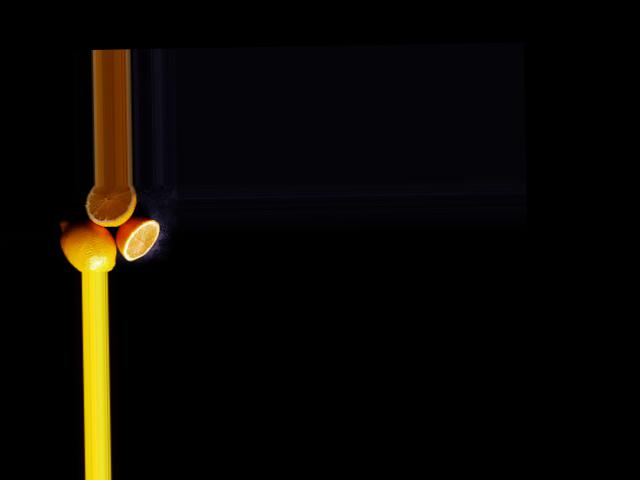lemon: (55, 219, 120, 271)
